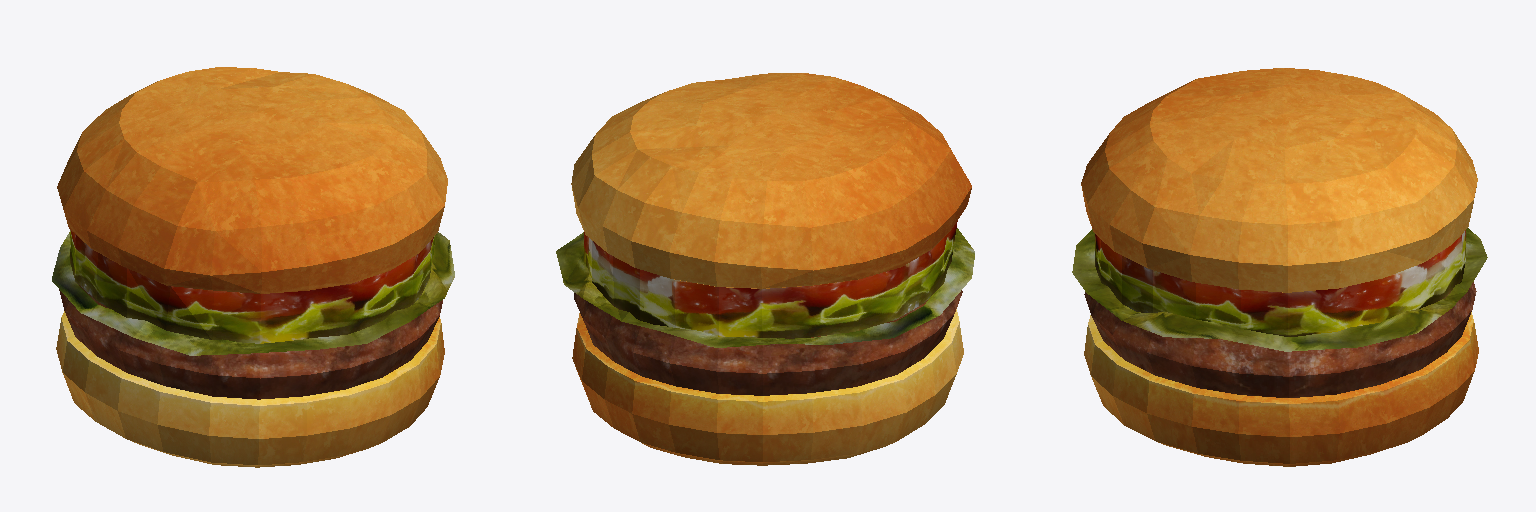
3 views of the same model, side by side, from view 1: azimuth 30°, elevation 25°; view 2: azimuth 150°, elevation 25°; view 3: azimuth 270°, elevation 25° (orthographic).
Parts seen in each view (by area): view 1: Burger_2; view 2: Burger_2; view 3: Burger_2.
Part boxes in pixels (x1,y1,x2,y2): Burger_2: (52, 67, 454, 467); Burger_2: (556, 73, 974, 465); Burger_2: (1072, 68, 1487, 466).
Bounding box in the file's own units: 53.44 × 41.85 × 55.39.
1 materials, 1 textured.